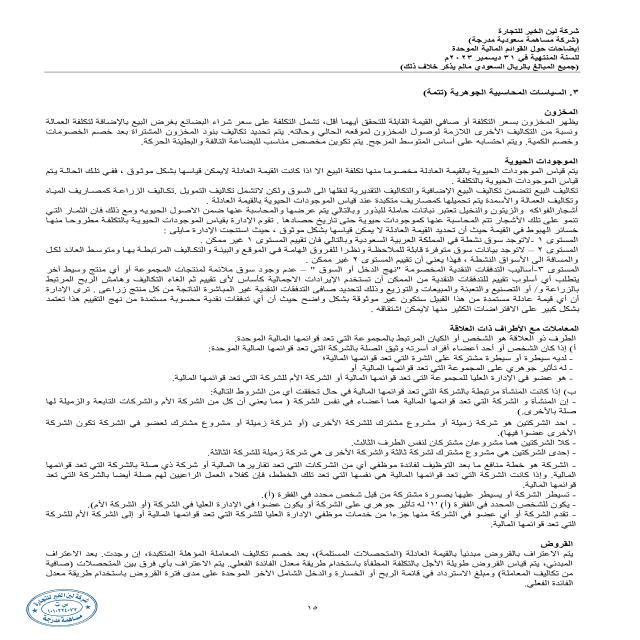notes: (440, 45, 584, 53)
text: (5, 83, 590, 598)
